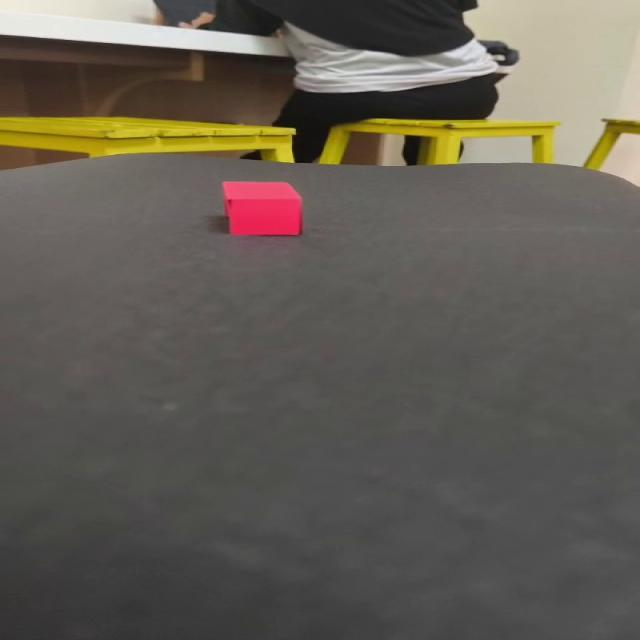red block: (220, 180, 303, 236)
